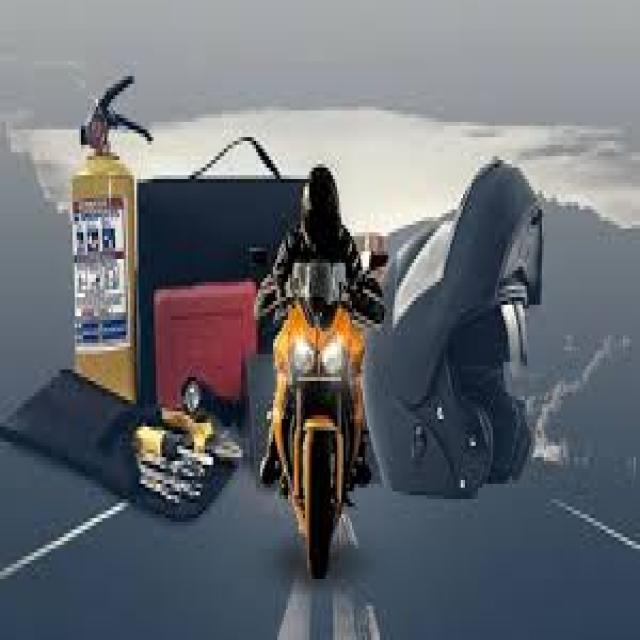MOTORCYCLE: (272, 253, 360, 566)
